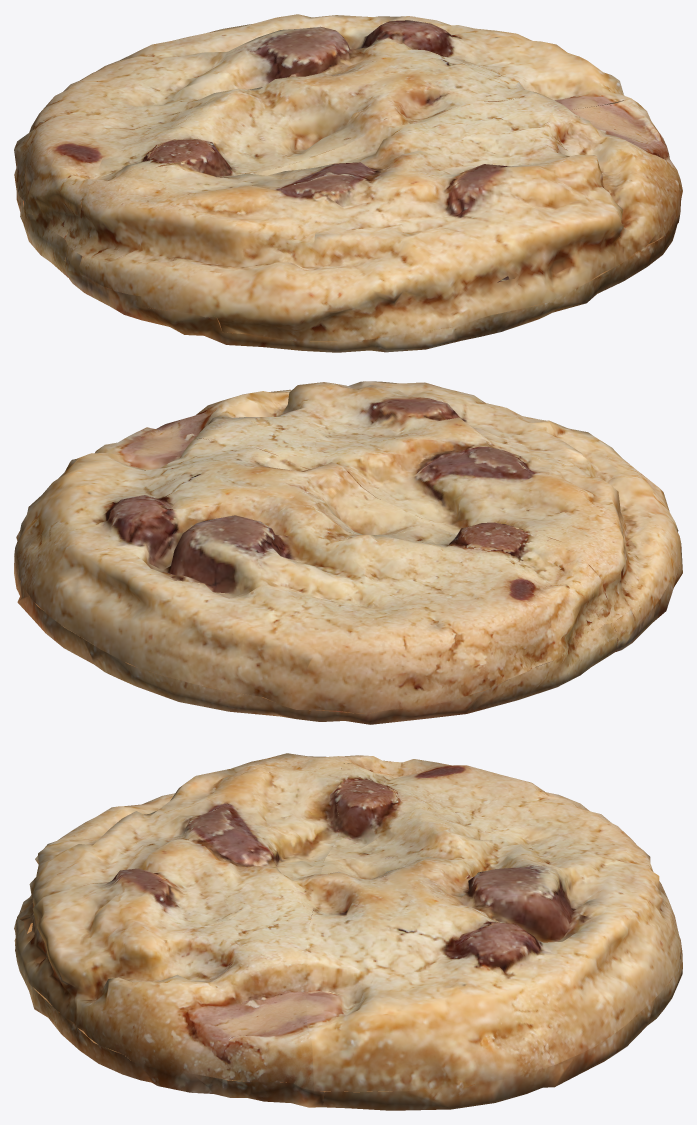
The model's file is cookie-v1.glb.
The picture shows the model from 3 angles, top to bottom: view 1: azimuth 30°, elevation 25°; view 2: azimuth 150°, elevation 25°; view 3: azimuth 270°, elevation 25°; orthographic projection. The views are drawn at different scales.
Parts seen in each view (by area): view 1: cookie; view 2: cookie; view 3: cookie.
Part boxes in pixels (box(x1,y1,x2,y2)): cookie: box(14, 14, 682, 352); cookie: box(14, 381, 682, 724); cookie: box(14, 753, 682, 1110).
Bounding box in the file's own units: 3.99 × 0.7759 × 3.98.
Materials: 1 (1 with a texture image).
